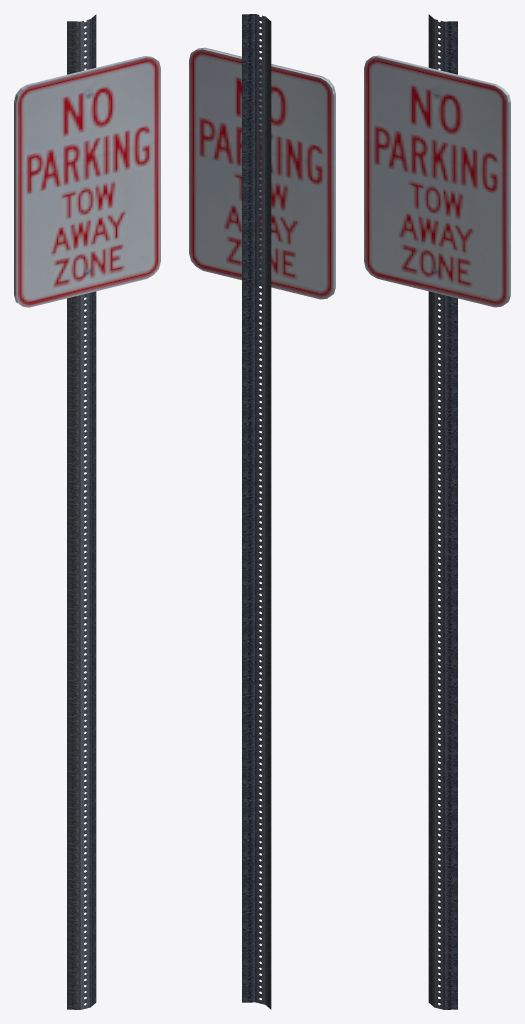
File: Classic64_SignNoParking_Model.fbx
3 views of the same model, side by side, from view 1: azimuth 30°, elevation 25°; view 2: azimuth 150°, elevation 25°; view 3: azimuth 330°, elevation 25° (orthographic).
Visible parts, largest first — view 1: Classic64_SignNoParking_Part000, Classic64_SignNoParking_Part001; view 2: Classic64_SignNoParking_Part001, Classic64_SignNoParking_Part000; view 3: Classic64_SignNoParking_Part000, Classic64_SignNoParking_Part001.
Boxes of the visible parts, bbox=[...] form: Classic64_SignNoParking_Part000: bbox=[14, 56, 160, 307]; Classic64_SignNoParking_Part001: bbox=[67, 14, 96, 1009]; Classic64_SignNoParking_Part001: bbox=[242, 14, 271, 1009]; Classic64_SignNoParking_Part000: bbox=[189, 47, 335, 299]; Classic64_SignNoParking_Part000: bbox=[364, 55, 510, 307]; Classic64_SignNoParking_Part001: bbox=[428, 14, 457, 1009].
Size of the model in its own units: 0.2799 by 1.83 by 0.0233.
2 materials, 2 textured.
